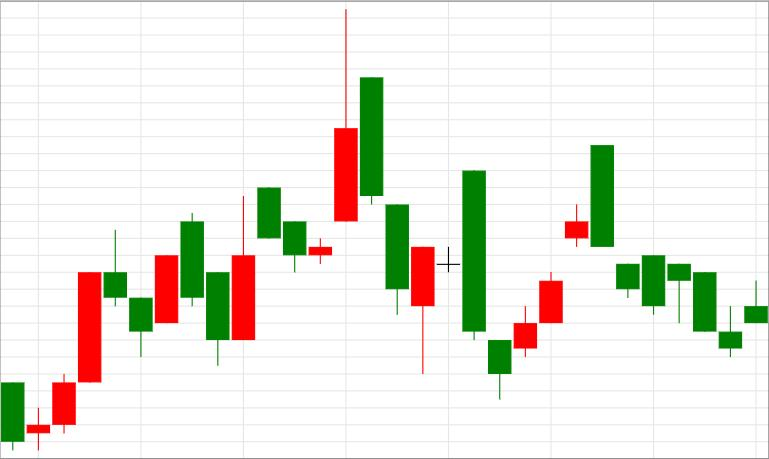bearish_engulfing_fall: (488, 144, 614, 400)
shooting_star_fall: (1, 231, 127, 451)
